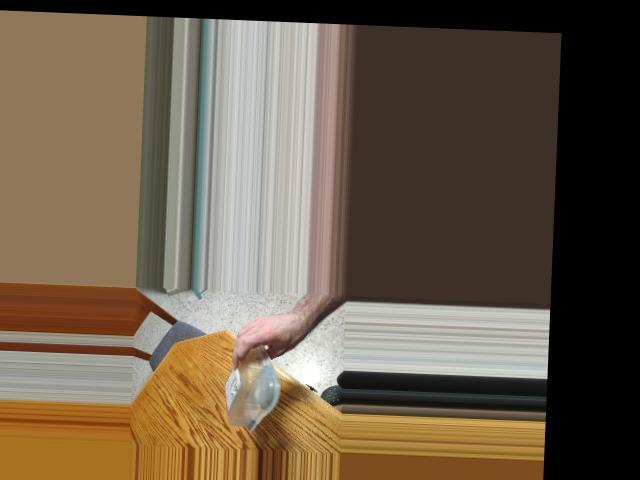cheese: (221, 327, 278, 432)
